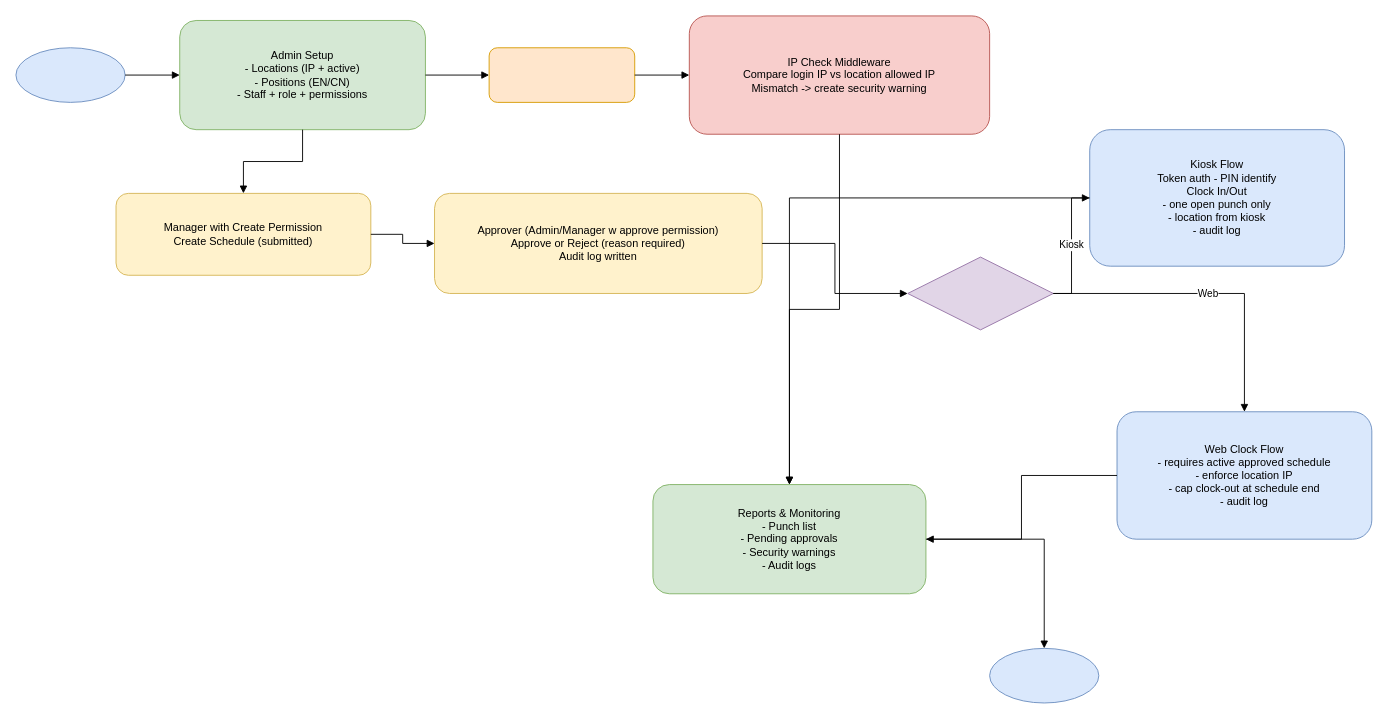
This 1388x719 diagram has some shape labels left out. The box of each missing label's shape, as (x1, y1, x2, y2) in pixels:
Clock Method: (907, 256, 1053, 330)
End: (989, 647, 1099, 703)
Start: (15, 47, 125, 102)
User Login: (488, 47, 635, 102)
